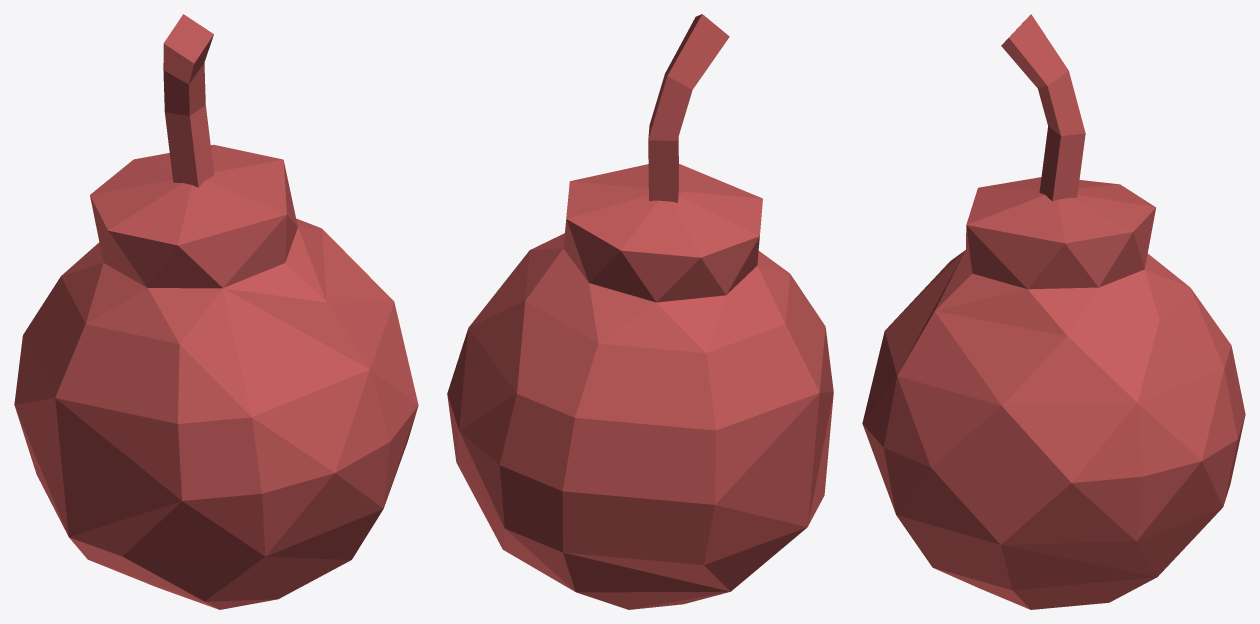
File: Bomb_Copper.FBX
The picture shows the model from 3 angles, left to right: view 1: azimuth 30°, elevation 25°; view 2: azimuth 150°, elevation 25°; view 3: azimuth 270°, elevation 25°; orthographic projection. The views are drawn at different scales.
Parts seen in each view (by area): view 1: Bomb_Copper; view 2: Bomb_Copper; view 3: Bomb_Copper.
Part boxes in pixels (box(x1,y1,x2,y2)): Bomb_Copper: box(14, 14, 418, 609); Bomb_Copper: box(447, 14, 833, 609); Bomb_Copper: box(862, 14, 1245, 609).
Bounding box in the file's own units: 0.5179 × 0.8525 × 0.5307.
